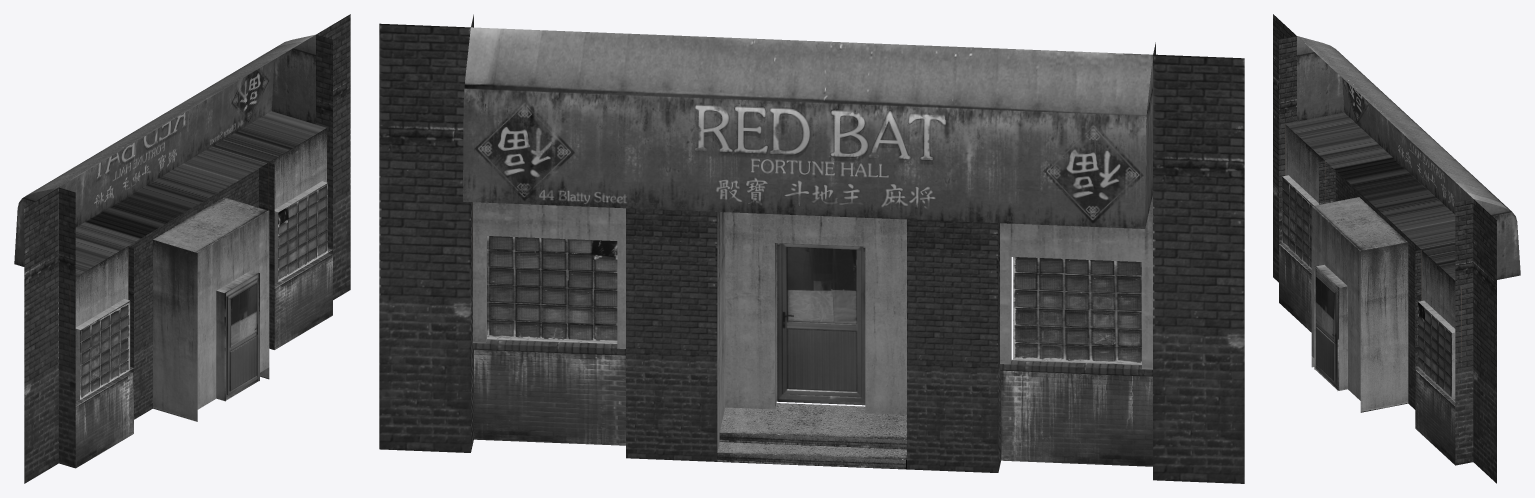
The model's file is chinatown_gambling_hall.fbx.
3 views of the same model, side by side, from view 1: azimuth 30°, elevation 25°; view 2: azimuth 150°, elevation 25°; view 3: azimuth 270°, elevation 25° (orthographic). The views are drawn at different scales.
Visible parts, largest first — view 1: gambling_hall; view 2: gambling_hall; view 3: gambling_hall.
Part boxes in pixels (x1=…): gambling_hall: x1=14, y1=14, x2=350, y2=483; gambling_hall: x1=379, y1=14, x2=1244, y2=483; gambling_hall: x1=1273, y1=14, x2=1520, y2=483.
Bounding box in the file's own units: 1099 × 653 × 557.
